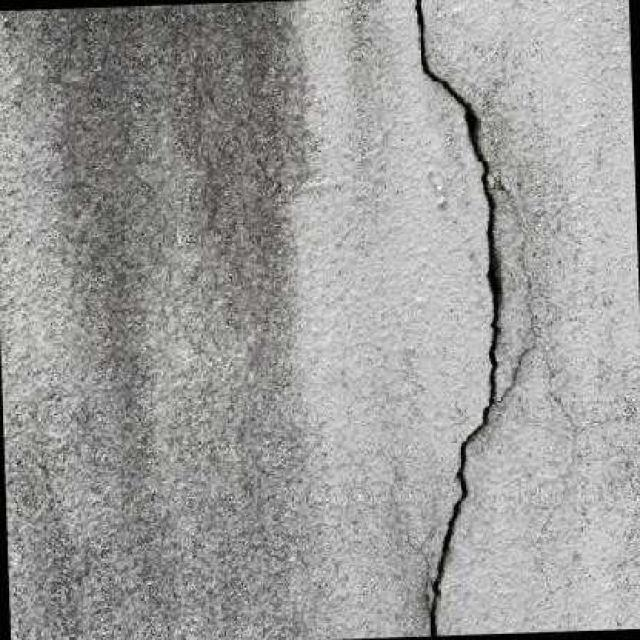D00: (411, 0, 502, 636)
